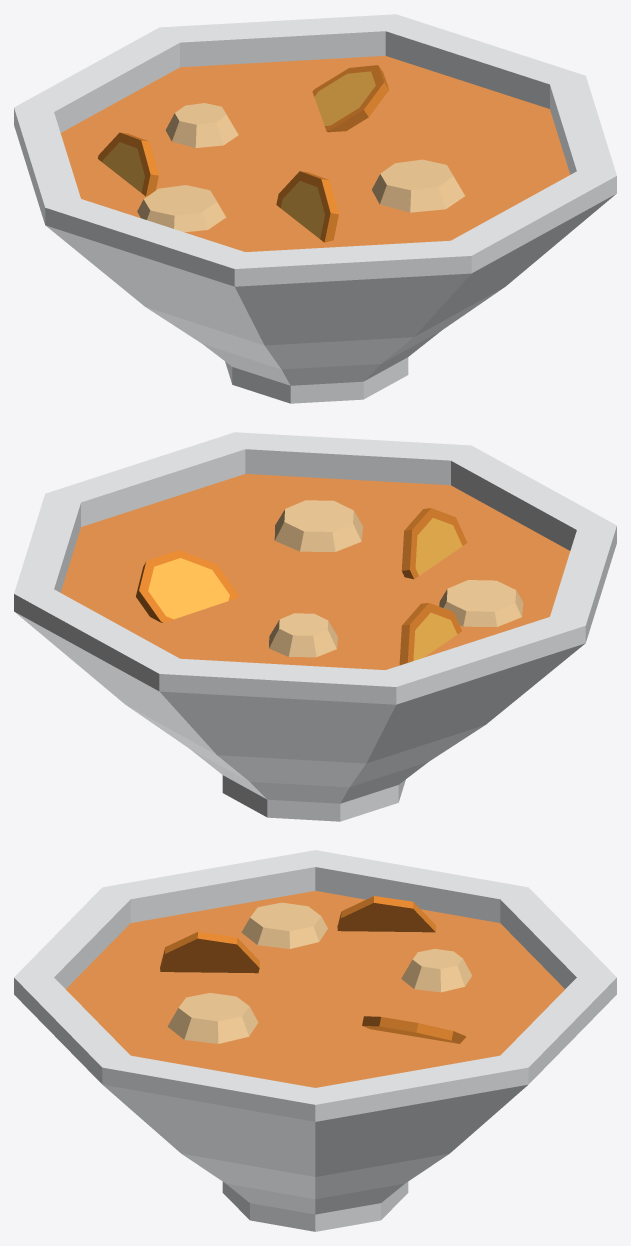
The model's file is Soup.fbx.
The picture shows the model from 3 angles, top to bottom: view 1: azimuth 30°, elevation 25°; view 2: azimuth 150°, elevation 25°; view 3: azimuth 270°, elevation 25°; orthographic projection. The views are drawn at different scales.
Visible parts, largest first — view 1: Soup.001; view 2: Soup.001; view 3: Soup.001.
Boxes of the visible parts, x1=… form: Soup.001: x1=14, y1=14, x2=616, y2=403; Soup.001: x1=14, y1=432, x2=616, y2=821; Soup.001: x1=14, y1=850, x2=616, y2=1231.
Size of the model in its own units: 265 by 114 by 265.
1 material, 1 textured.
